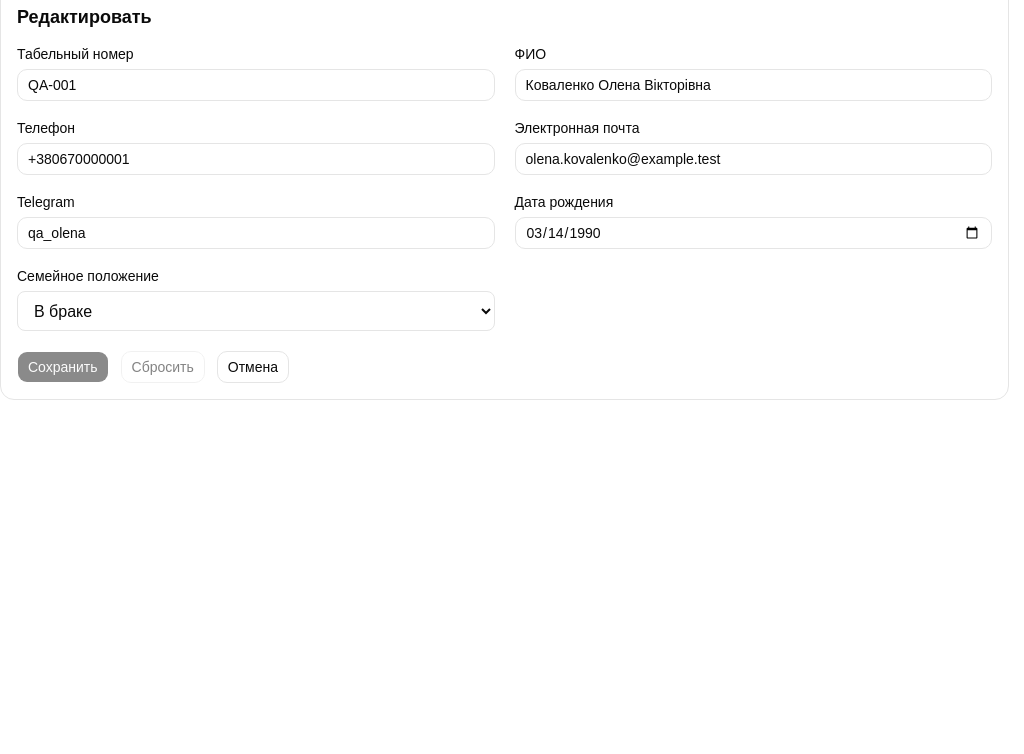
Scenario: employee profile journeys › preserves a stale draft until current values are deliberately acknowledged
Replace the text in the field labelled "ФИО" with "My unsaved draft" at (753, 85), box top-left (514, 69), bottom-right (992, 101)
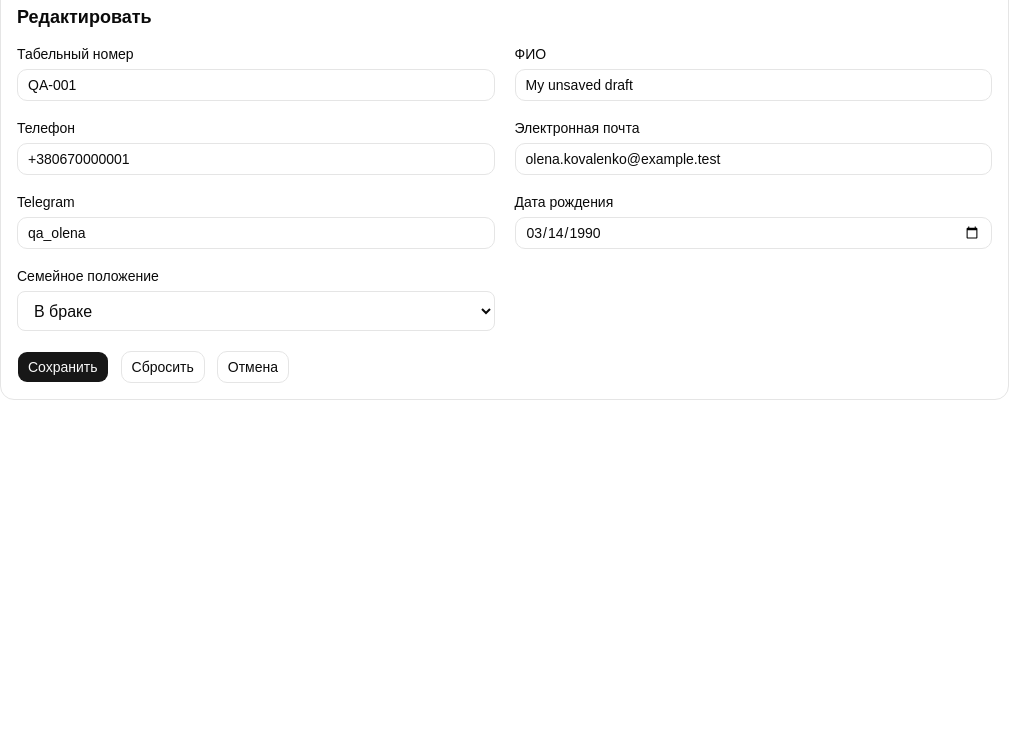
Click the button "Сохранить" at (63, 367), box top-left (17, 351), bottom-right (109, 383)
(page scrolled)
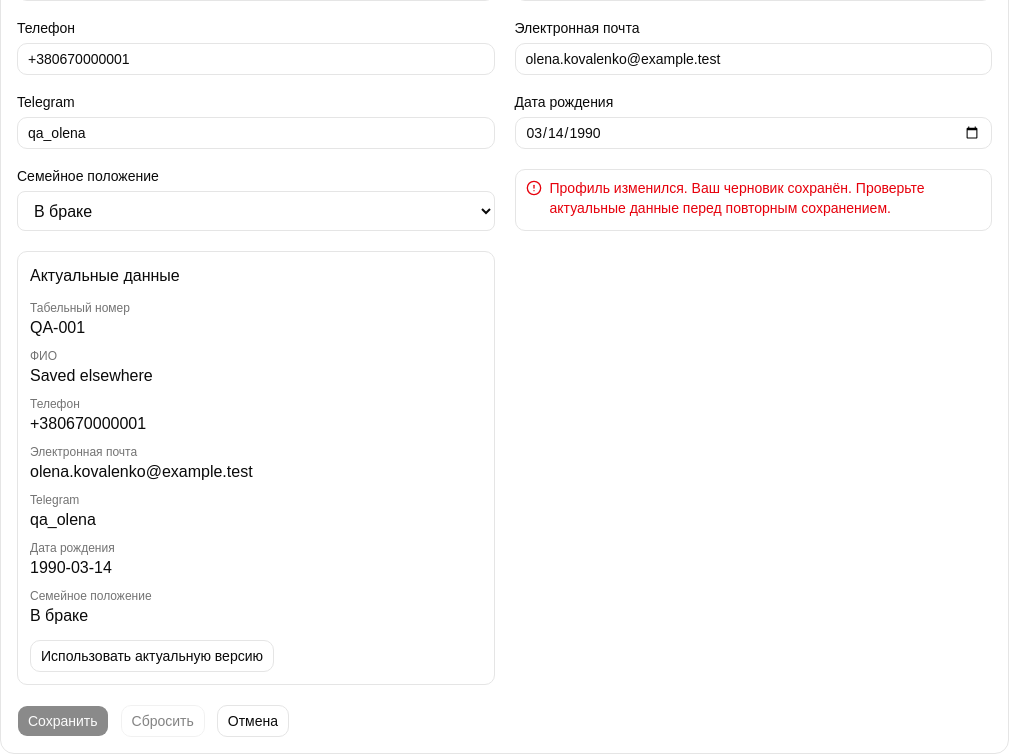
Result: the text "Saved elsewhere" is shown at top-left (30, 367), bottom-right (153, 384)
Result: the button "Сохранить" is disabled at top-left (17, 705), bottom-right (109, 737)
Click the button "Использовать актуальную версию" at (152, 656), box top-left (30, 640), bottom-right (274, 672)
(page scrolled)
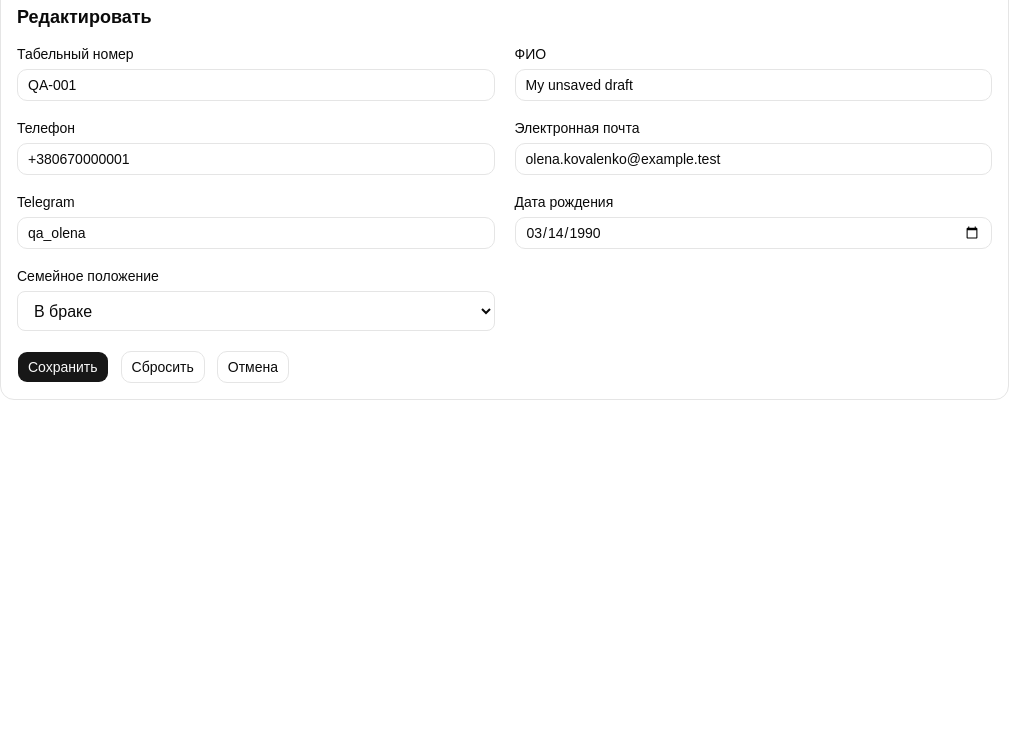
Result: the button "Сохранить" is enabled at top-left (17, 351), bottom-right (109, 383)
Click the button "Сбросить" at (163, 367), box top-left (121, 351), bottom-right (205, 383)
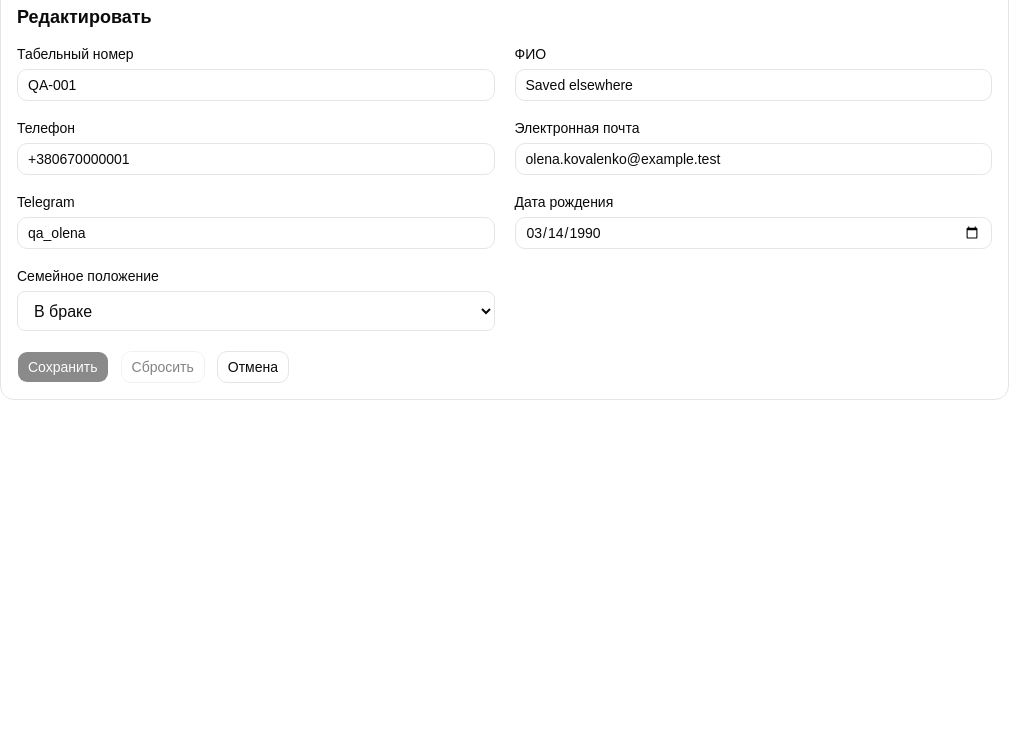
Result: the field labelled "ФИО" holds "Saved elsewhere" at top-left (514, 69), bottom-right (992, 101)
Result: the button "Сохранить" is disabled at top-left (17, 351), bottom-right (109, 383)
